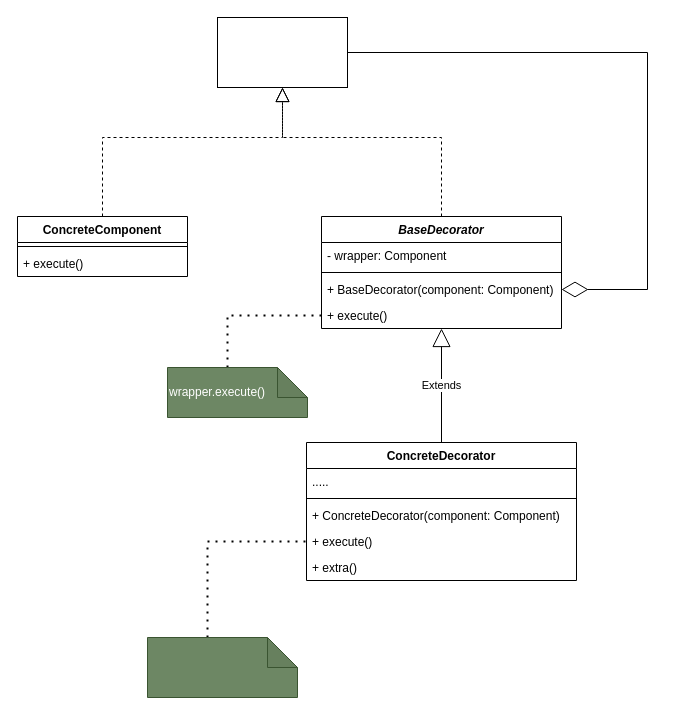
The diagram is 691 pixels wide and 715 high, and some of its shapes have lost their labels. Each missing label, with the centre of its shape:
<<Interface>> Component + execute(): point (282, 52)
super.execute() extra(): point (222, 667)
